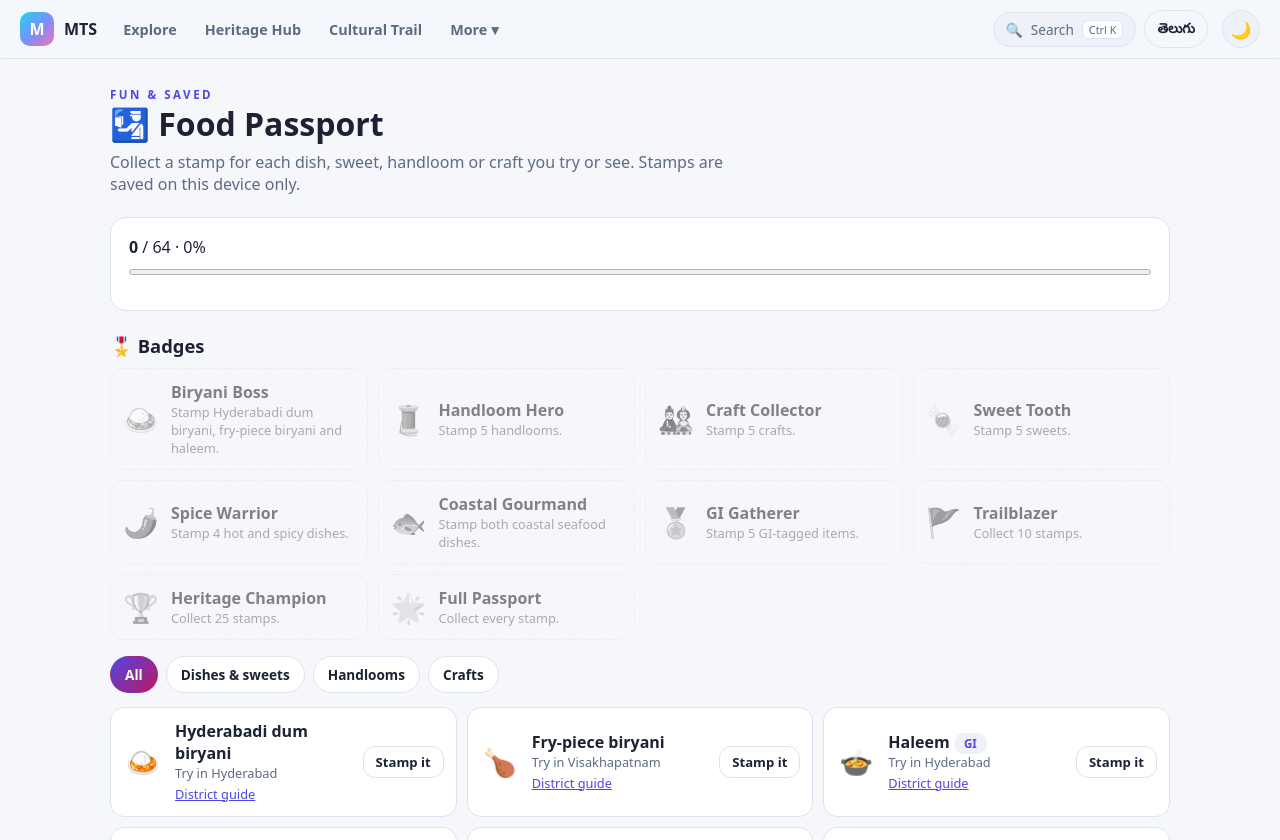
new pages render › stamps a passport entry and keeps it
Click the 1st button "Stamp it".
click(403, 762)  # box left=362, top=746, right=444, bottom=778
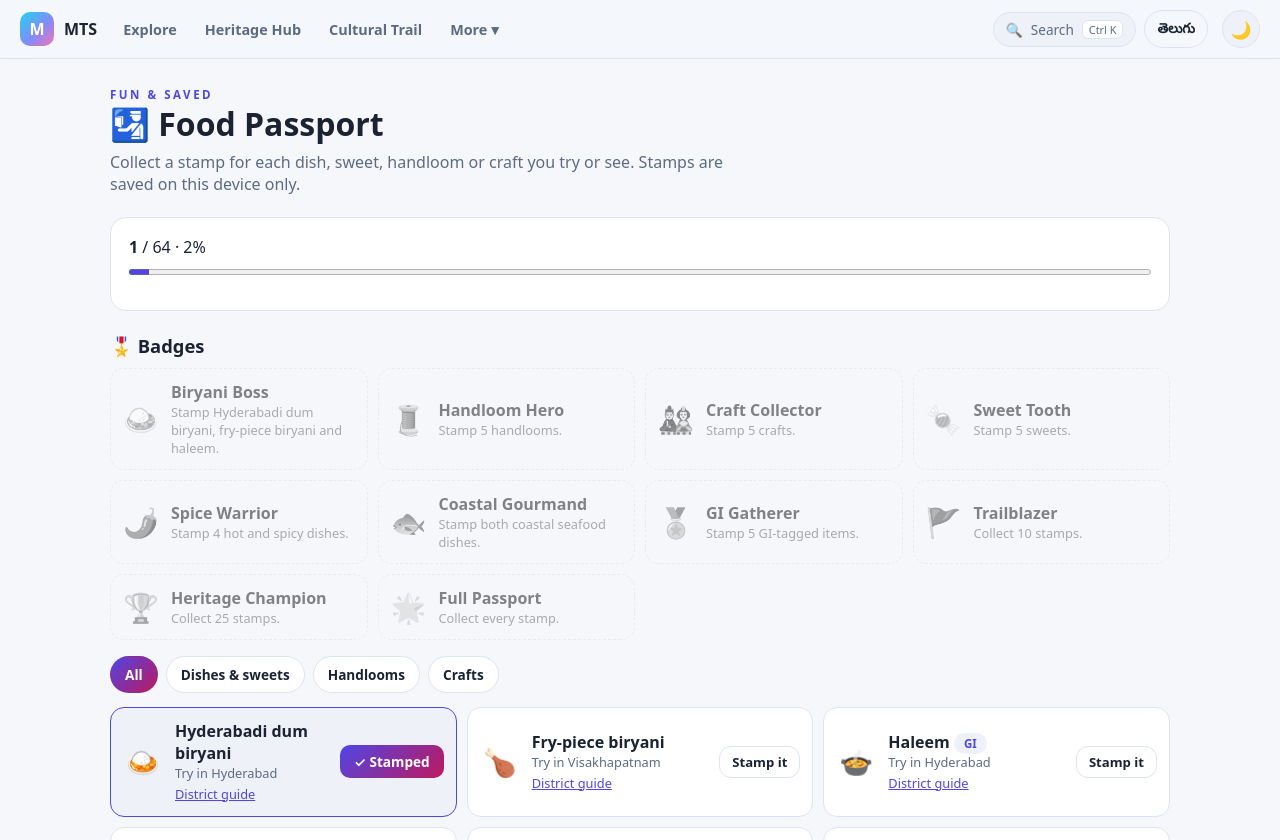
expect the button "✓ Stamped" is shown: met, box left=340, top=745, right=444, bottom=778
